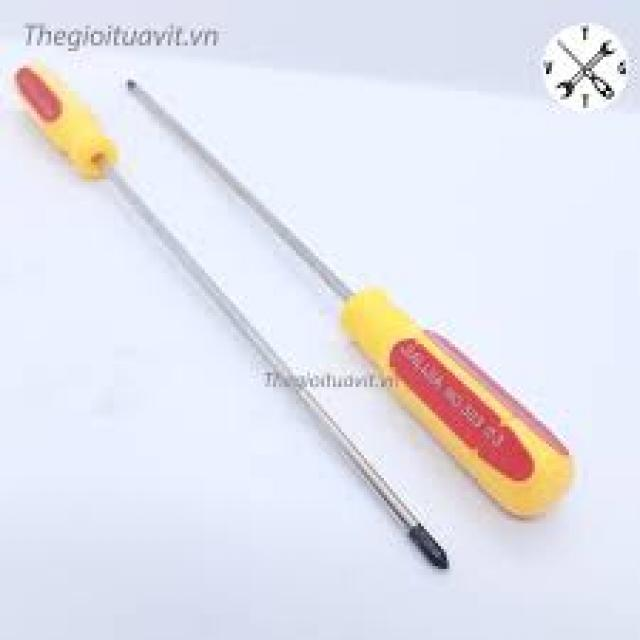screwdriver: (6, 61, 456, 570), (120, 75, 574, 528)
